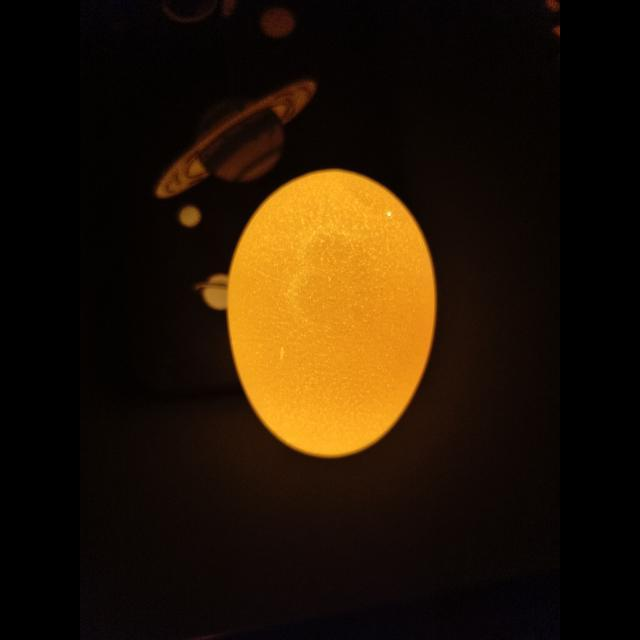AA - Premium: (228, 170, 436, 458)
